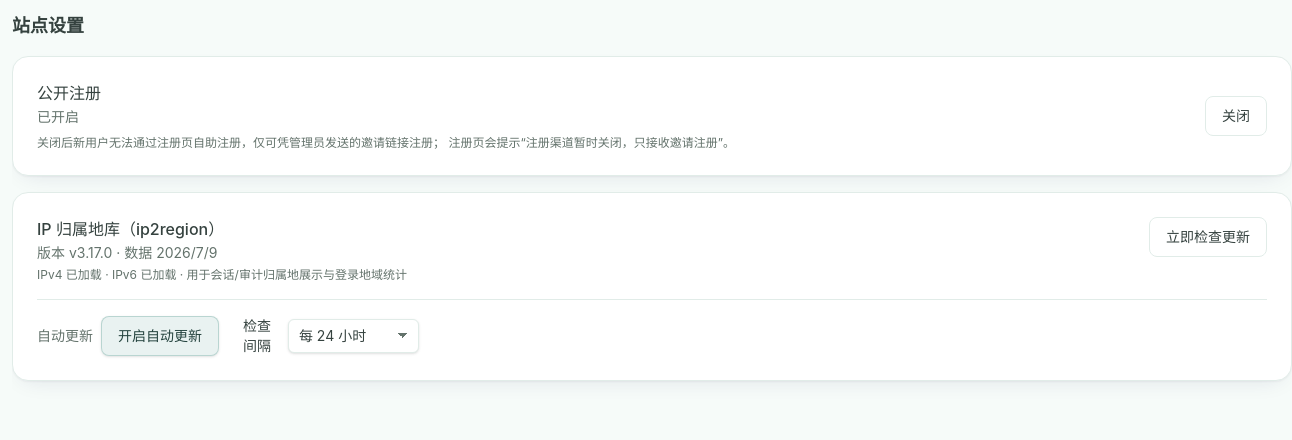
Test: AdminSettingsPanel › 后台更新失败时展示错误信息
expect the text "版本 v3.17.0 · 数据 2026/7/9" is shown: met, box [37,244,218,261]
Click the button "立即检查更新": {"x": 1208, "y": 237} [1149,217,1267,257]
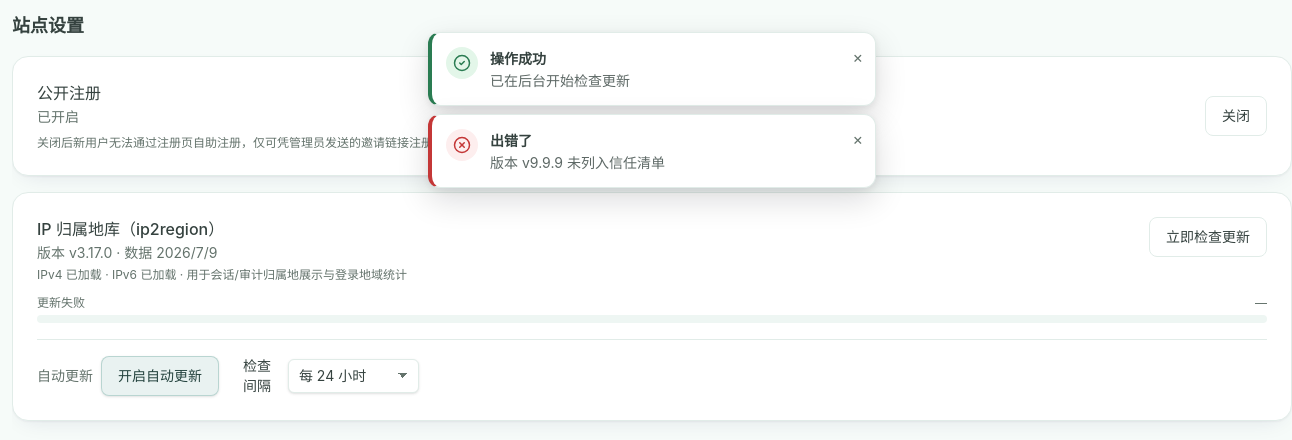
expect the text "版本 v9.9.9 未列入信任清单" is shown: met, box [490,154,665,171]
